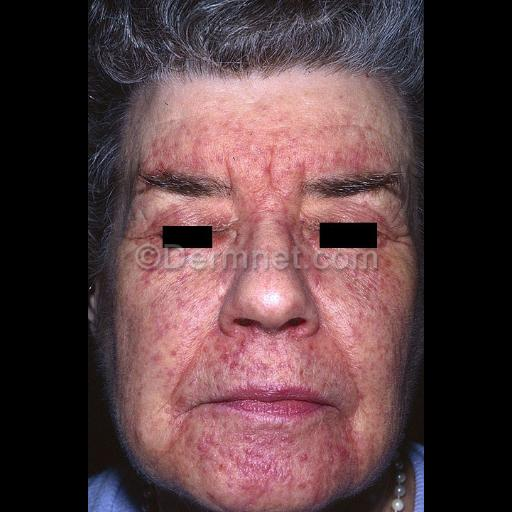Skin_Lesion: (235, 440, 287, 510), (242, 144, 306, 192), (200, 332, 260, 378), (145, 134, 213, 166), (318, 144, 384, 166), (187, 438, 219, 460), (270, 347, 292, 377), (322, 442, 350, 460), (183, 272, 205, 294), (162, 348, 180, 372), (180, 295, 196, 315), (339, 278, 353, 292), (316, 280, 320, 286)
